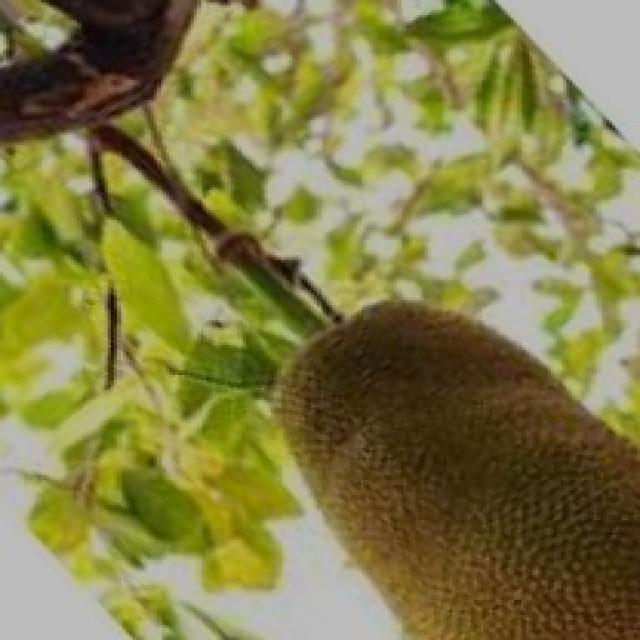Fruit: (246, 267, 640, 640)
